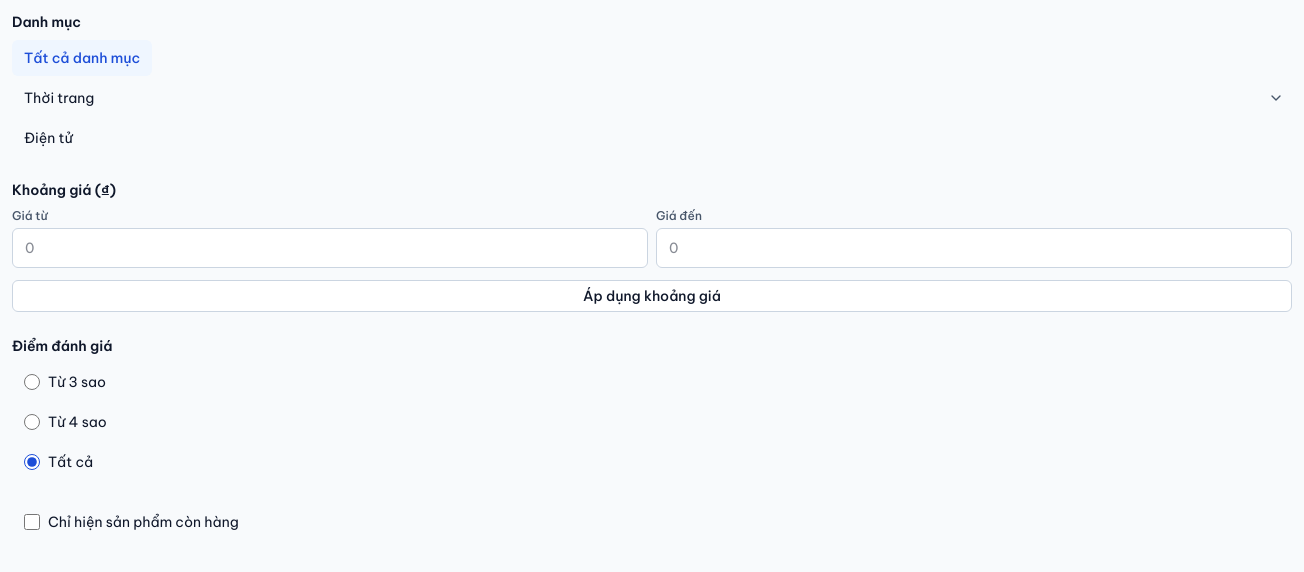
Test: SearchFilterPanel › reports an inverted price range in place and sends nothing (FR-PRD-006 E1)
Type "1.000.000" into the field labelled "Giá từ" at [330, 248], box [12, 228, 648, 268]
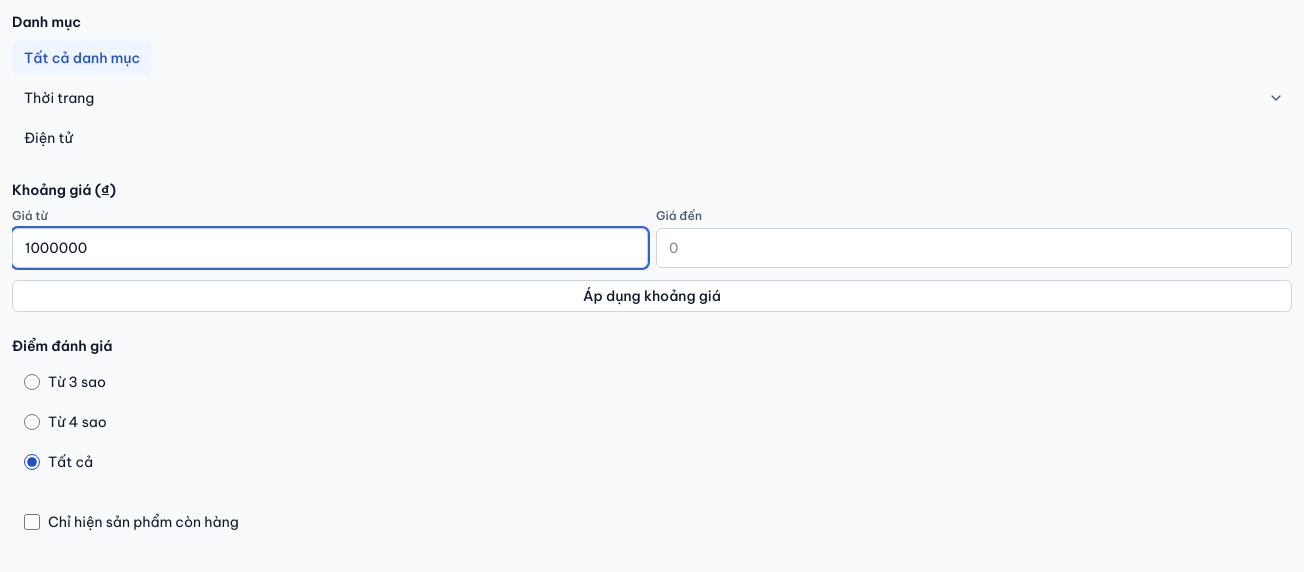
Type "100000" into the field labelled "Giá đến" at [974, 248], box [656, 228, 1292, 268]
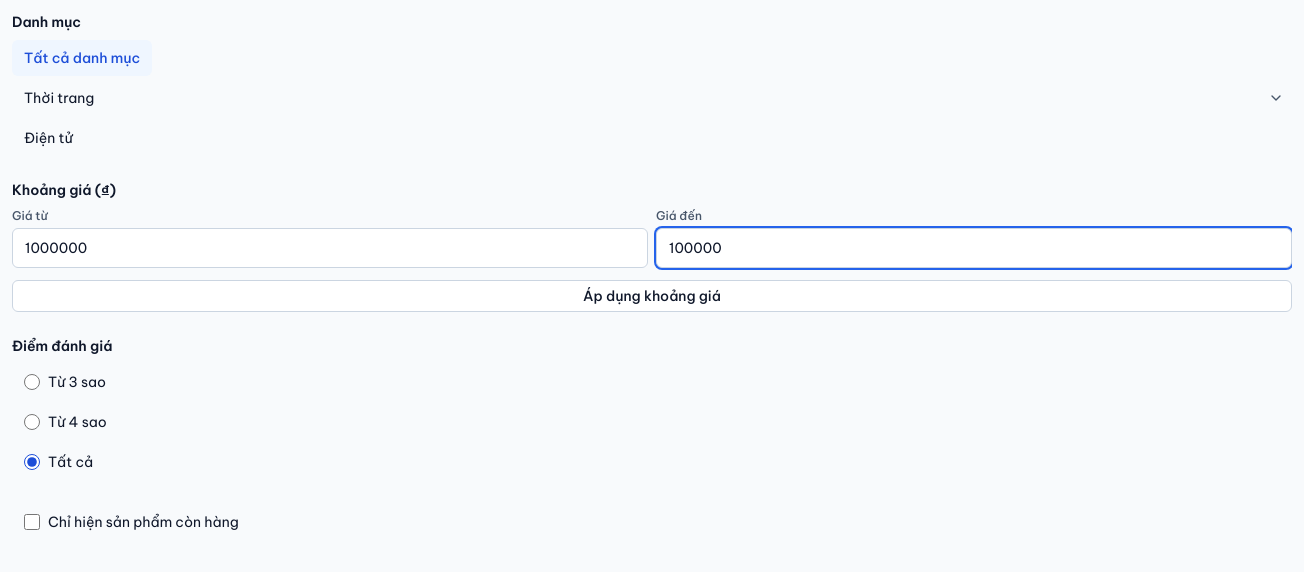
Click the button "Áp dụng khoảng giá" at [652, 296], box [12, 280, 1292, 312]
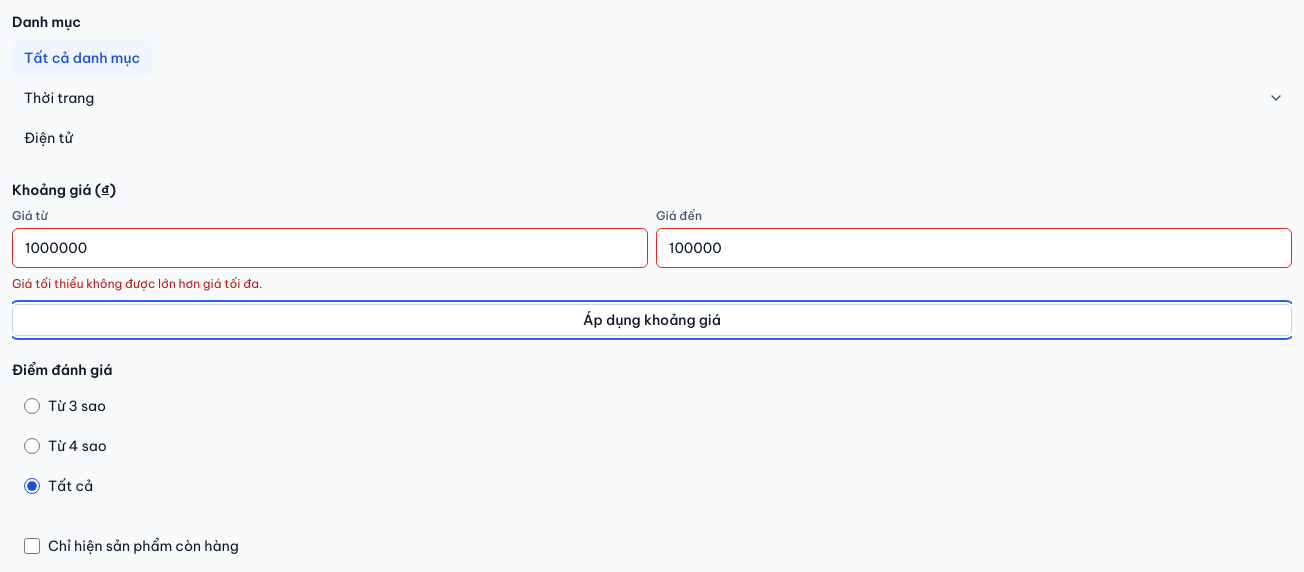
Now the message reads "Giá tối thiểu không được lớn hơn giá tối đa.", box [12, 276, 262, 291]
